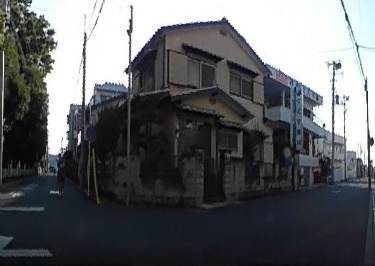person: (55, 156, 67, 193)
